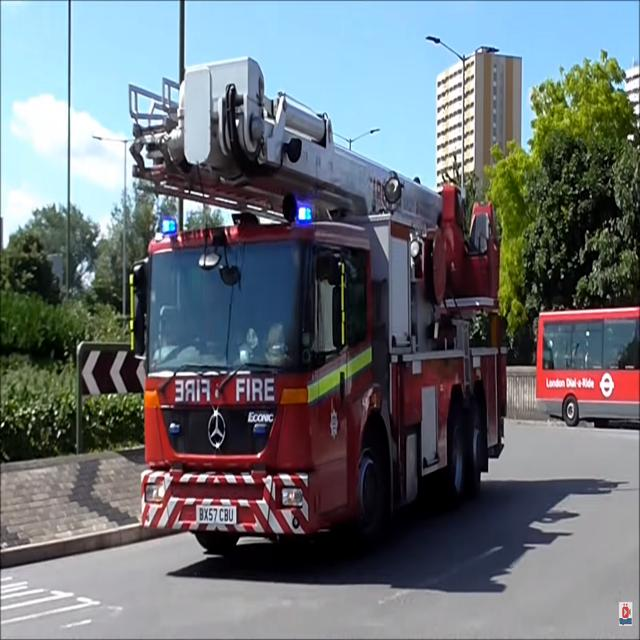emergency-vehicles: (89, 46, 520, 559)
